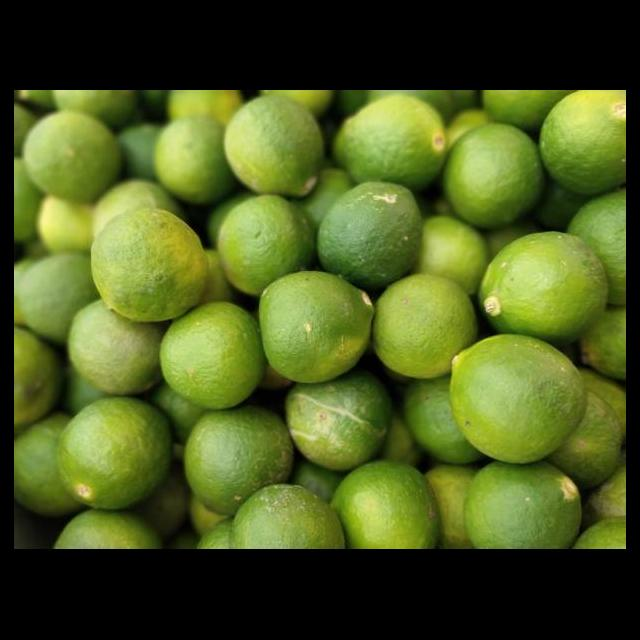lime: (90, 210, 209, 324), (317, 182, 424, 292), (283, 374, 395, 474)
